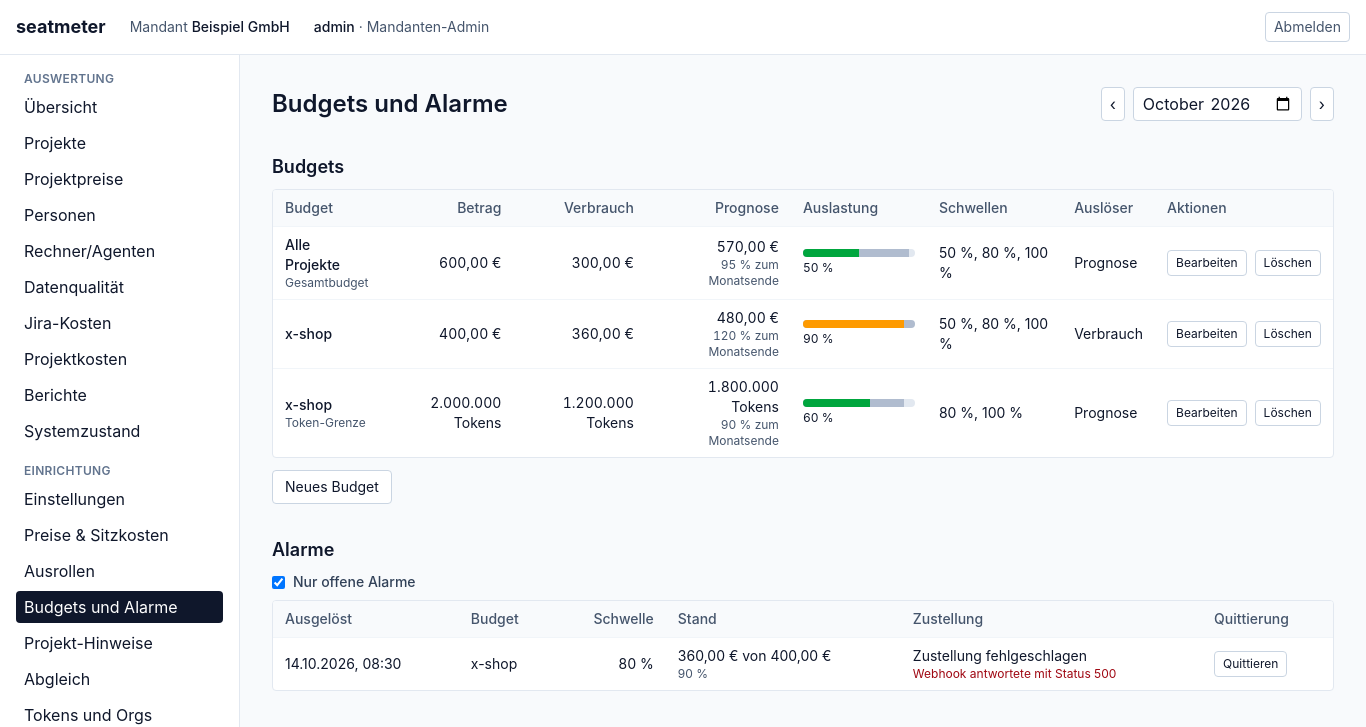
Budgets: anlegen, bearbeiten, löschen › löscht ein Budget erst nach Bestätigung
Step 1. Click the button with aria-label "Budget alle Projekte löschen" → (1288, 263), box [1255, 250, 1321, 276]
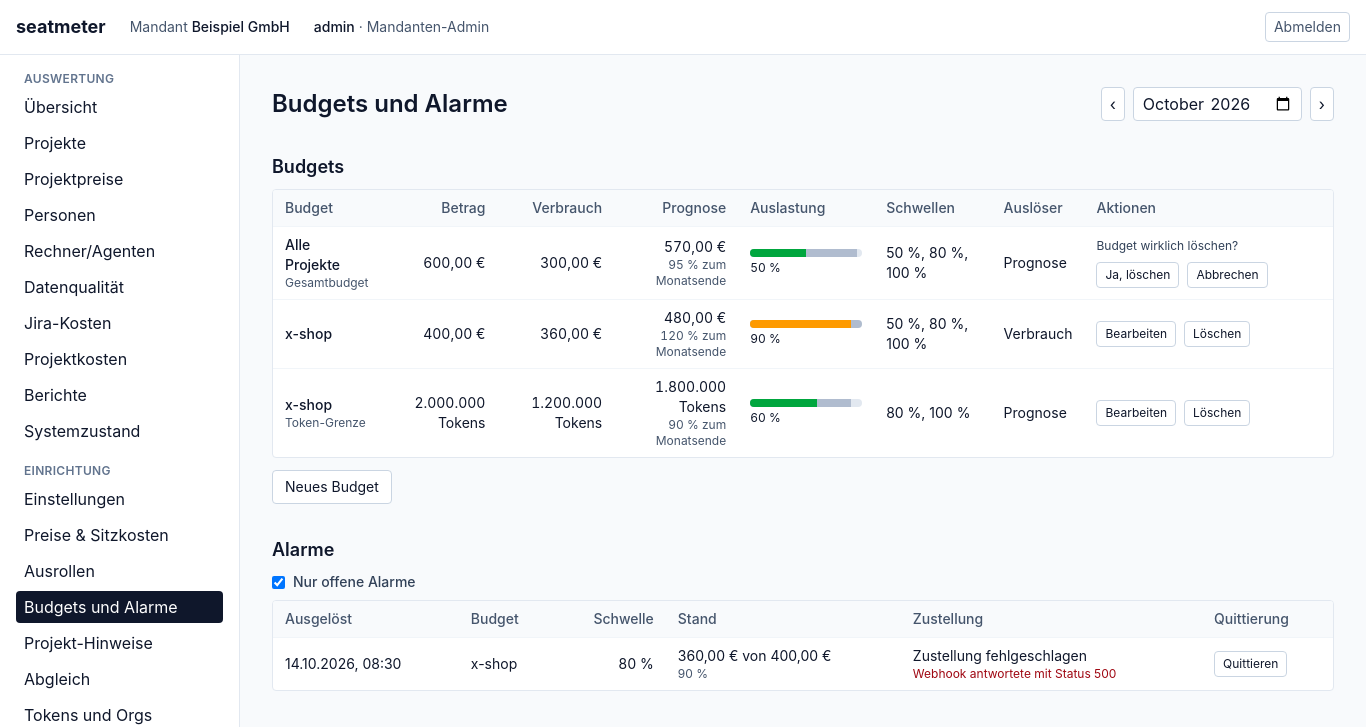
Step 2. Click the button "Ja, löschen" → (1138, 275), box [1096, 262, 1179, 288]
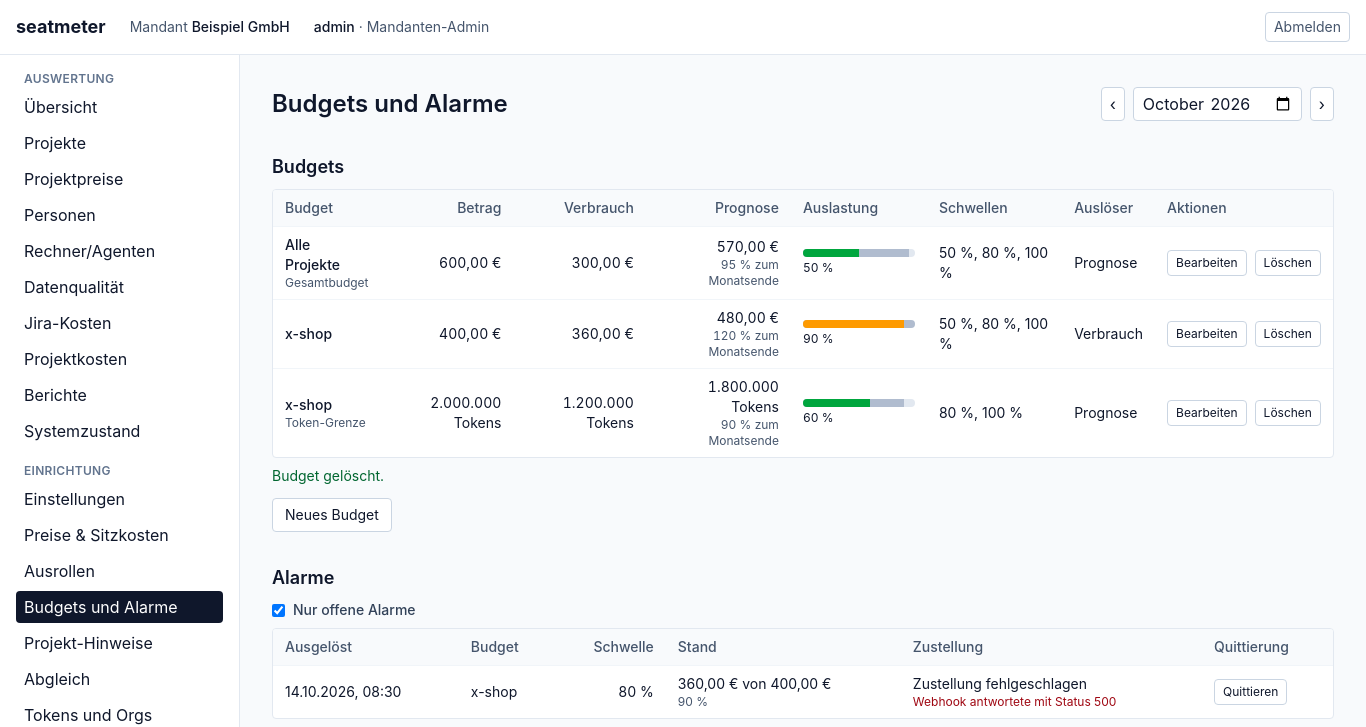
expect the text "Budget gelöscht." is shown: met, box [272, 467, 384, 484]
